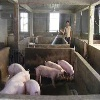heo: (35, 65, 61, 84), (57, 57, 76, 80), (47, 59, 67, 78), (5, 78, 24, 94), (27, 79, 42, 96), (6, 61, 24, 74), (17, 71, 30, 80)
